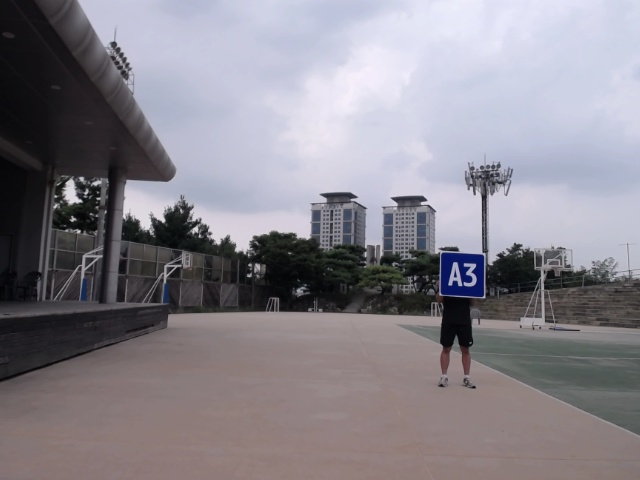delivery_a3: (440, 251, 486, 298)
